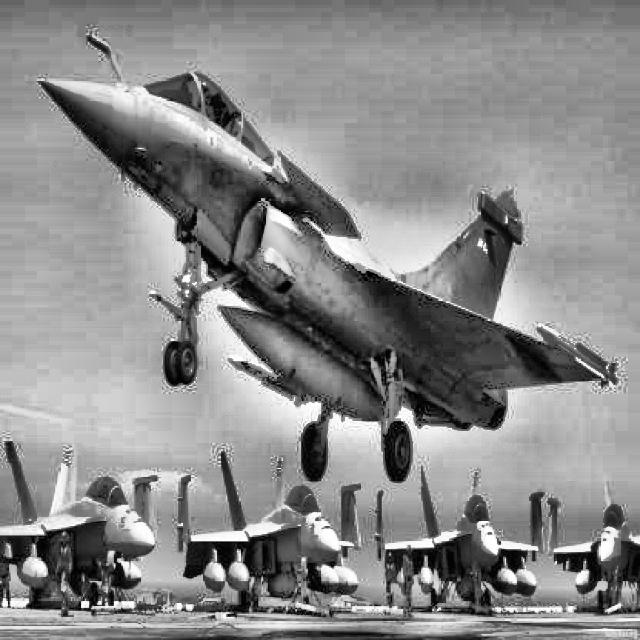F18: (176, 451, 361, 611), (0, 439, 158, 606), (374, 466, 546, 612), (548, 477, 638, 615)
Rafale: (35, 32, 618, 483)
